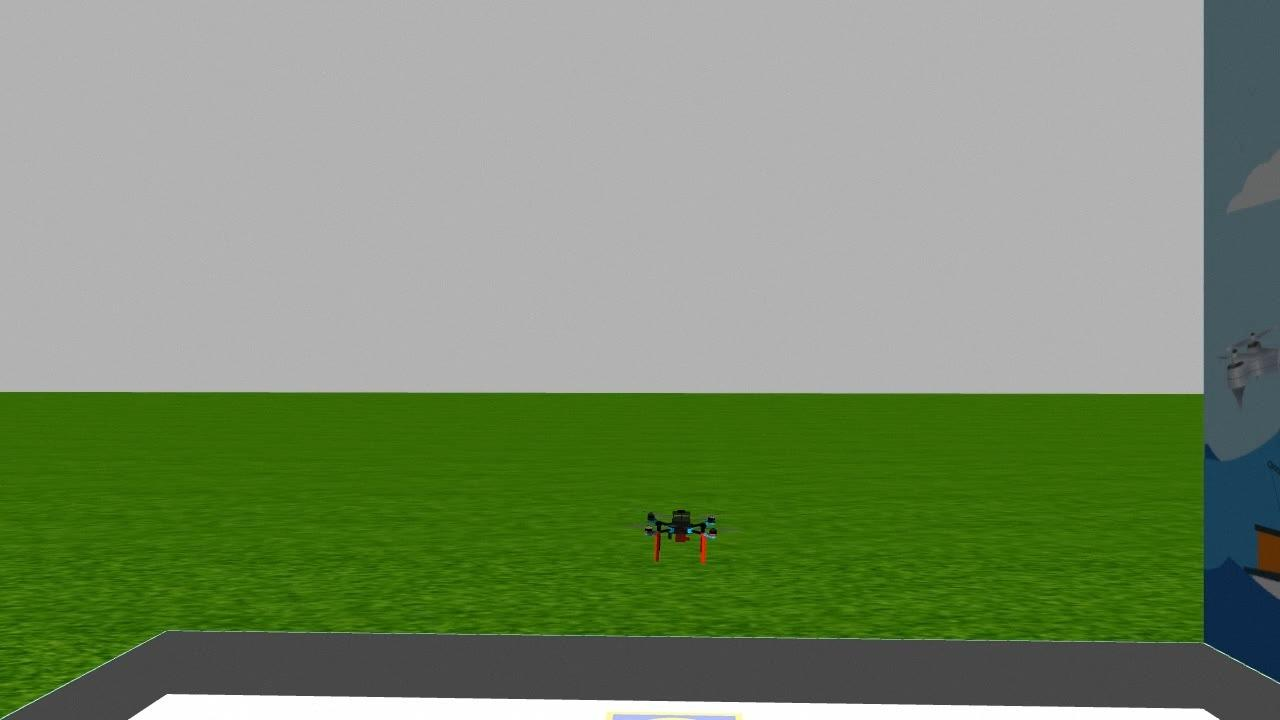UAV: (629, 499, 735, 568)
